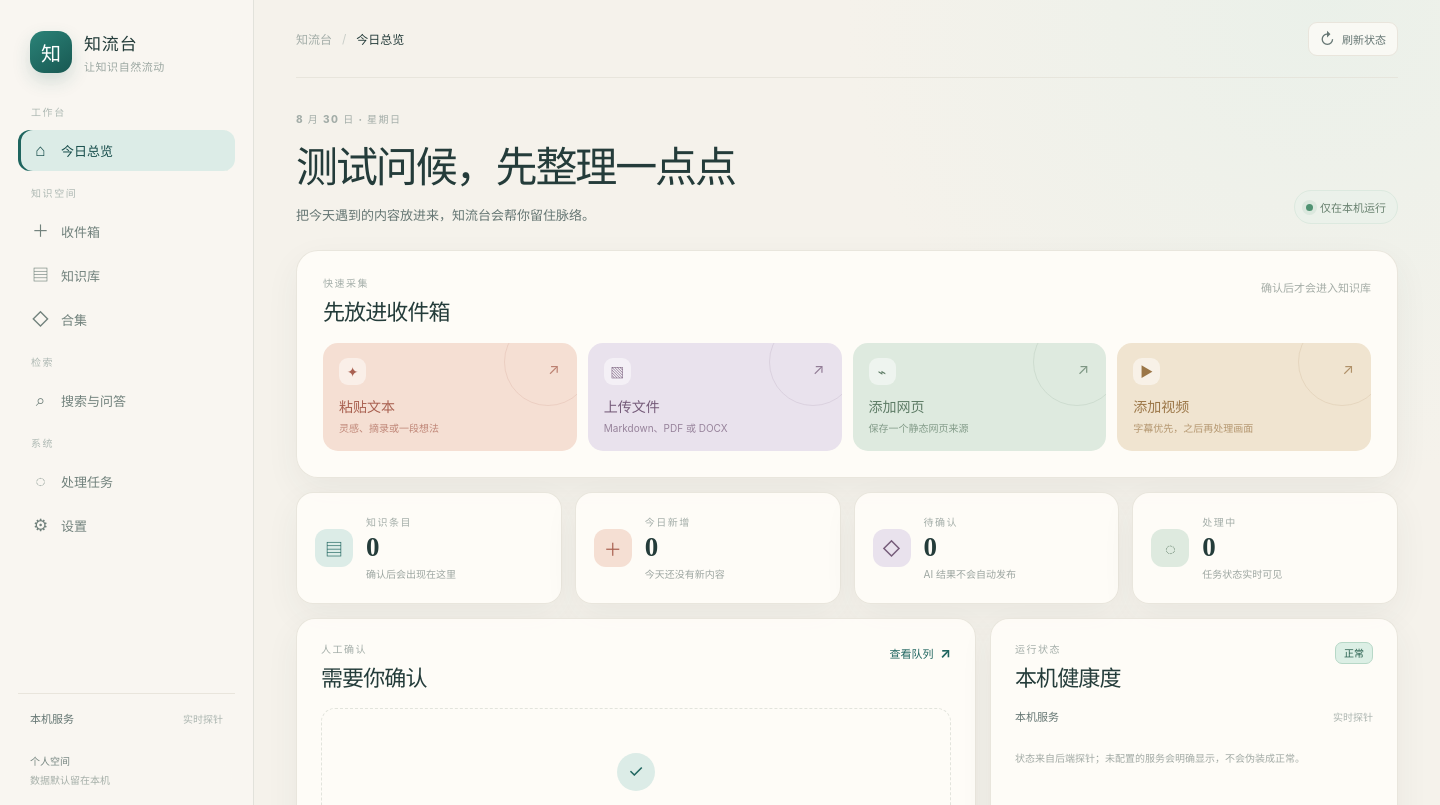
Test: 批次 A 统一采集 › 首页 上传文件 入口导航并预选 文件 模式
Expected: the heading "测试问候，先整理一点点" is shown, [296,133,735,194]
Click the button "▧ 上传文件 Markdown、PDF 或 DOCX ↗": (715, 397) [588,343,842,451]
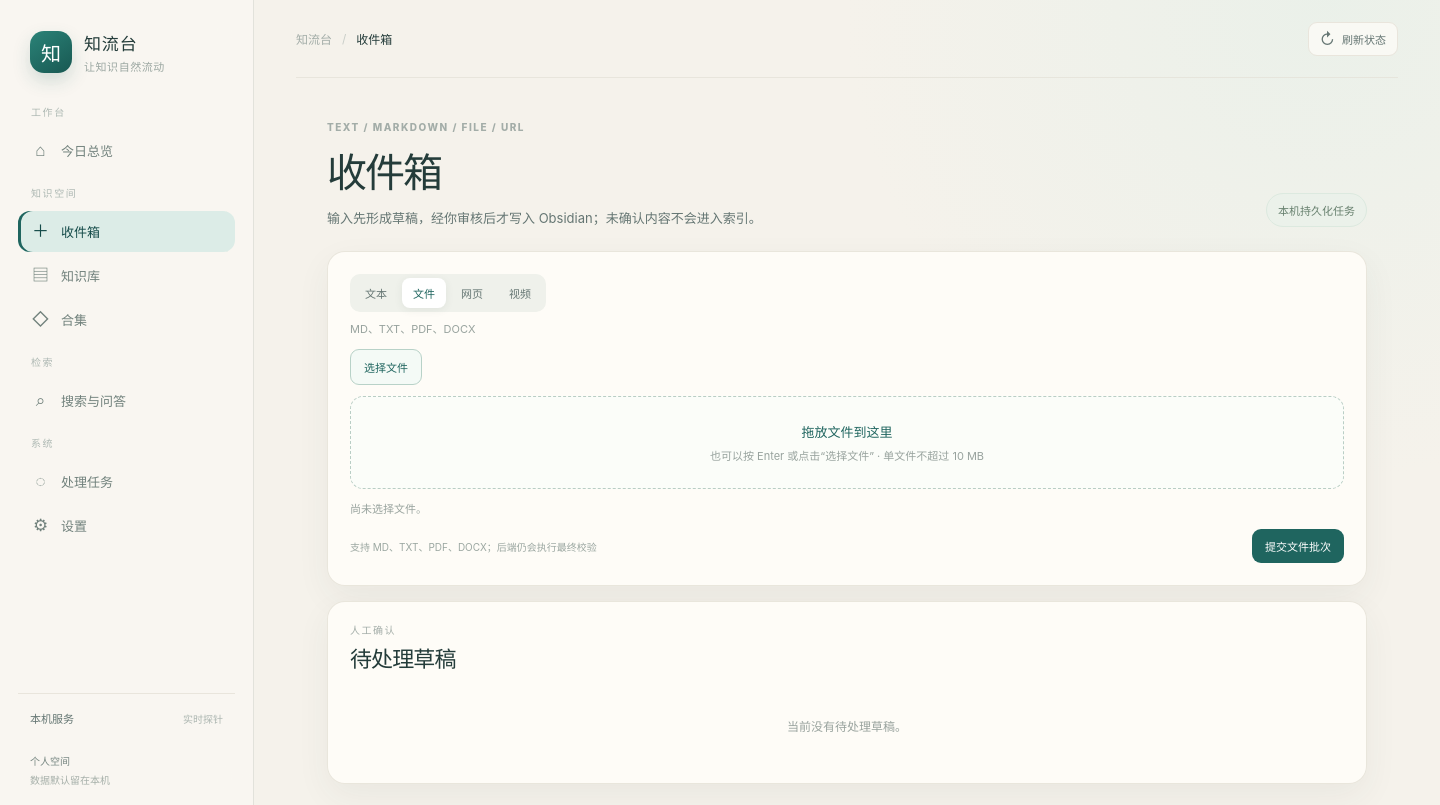
Expected: the heading "收件箱" is shown, [327,151,441,196]
